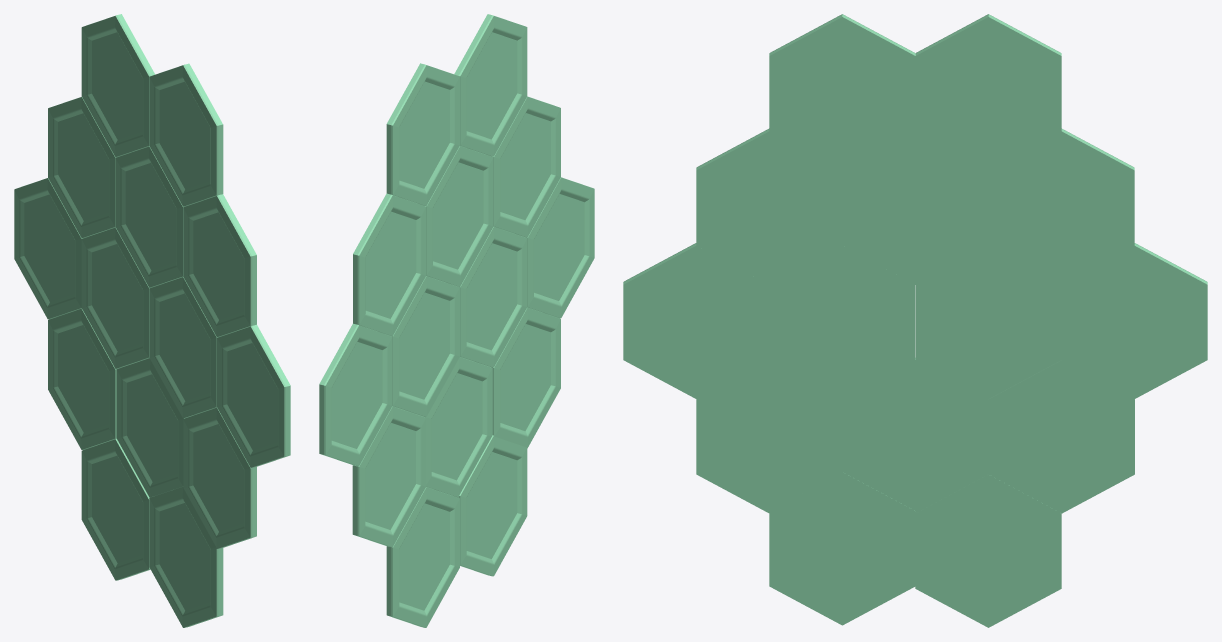
3 renders of one model, left to right at view 1: azimuth 30°, elevation 25°; view 2: azimuth 150°, elevation 25°; view 3: azimuth 270°, elevation 25°, orthographic. The views are drawn at different scales.
Visible parts, largest first — view 1: xiadele_Line1789531093; view 2: xiadele_Line1789531093; view 3: xiadele_Line1789531093.
Boxes of the visible parts, <box> form: xiadele_Line1789531093: <box>14,14,290,627</box>; xiadele_Line1789531093: <box>319,14,594,627</box>; xiadele_Line1789531093: <box>623,14,1207,627</box>.
Bounding box in the file's own units: 15.47 × 1240 × 1075.
